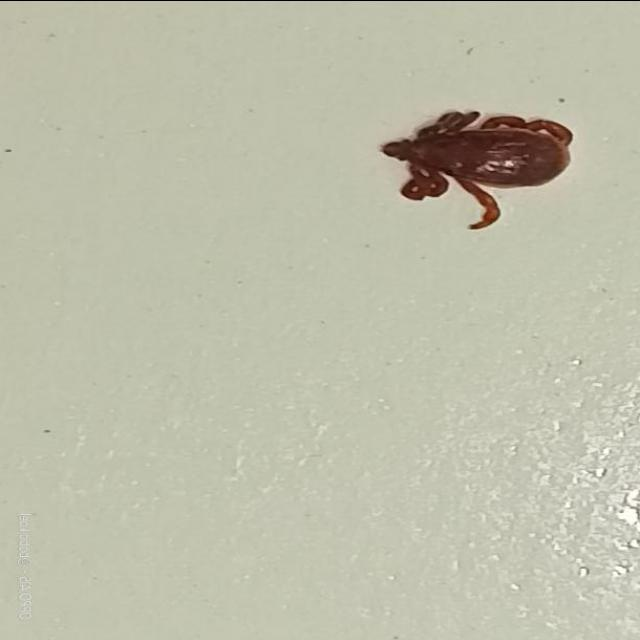Rhipicephalus Sanguineus-M: (379, 108, 572, 231)
